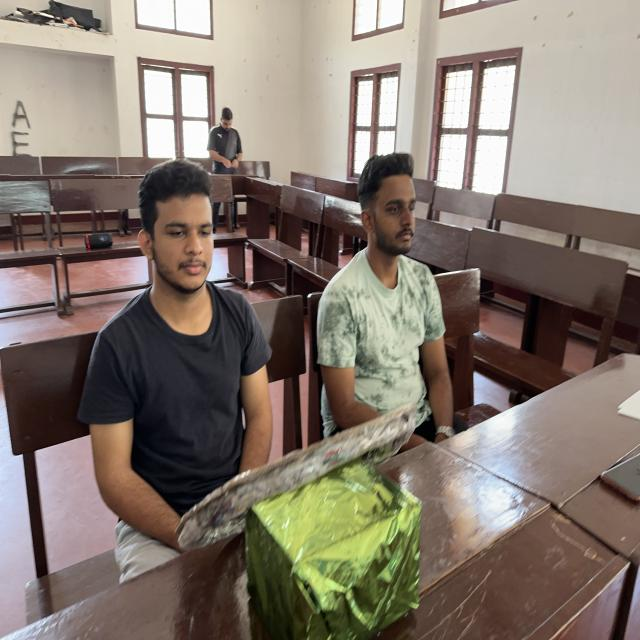Helmet: (81, 285, 278, 549), (313, 250, 461, 449)
